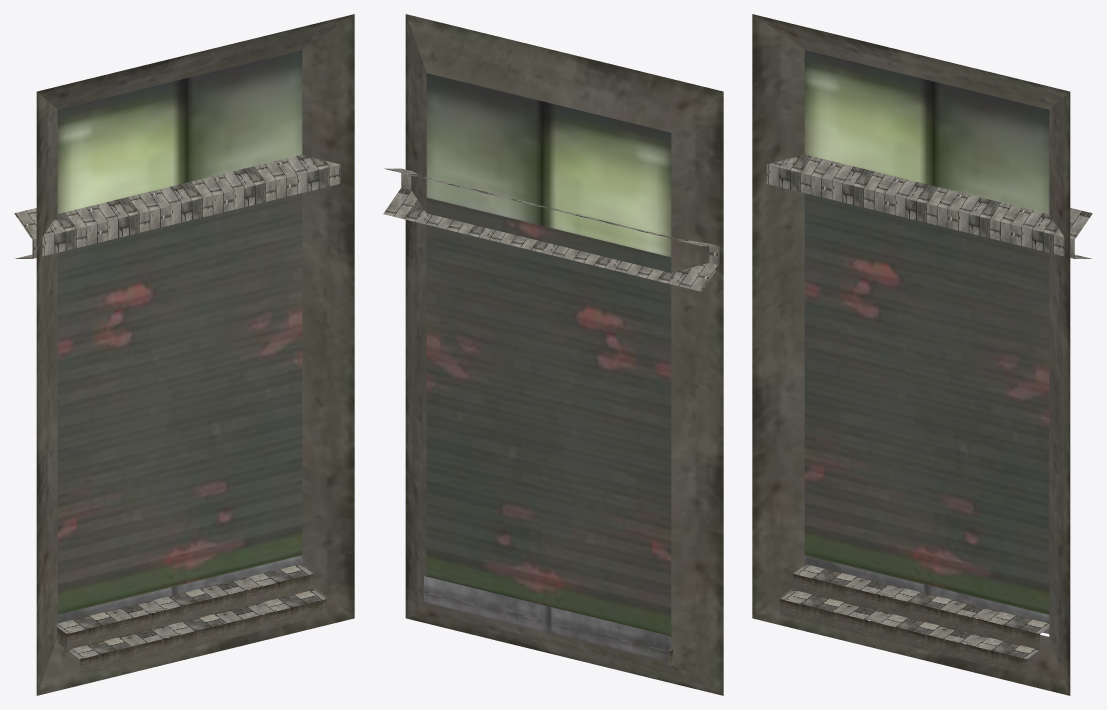
The model's file is wall-module-01.glb.
The picture shows the model from 3 angles, left to right: view 1: azimuth 30°, elevation 25°; view 2: azimuth 150°, elevation 25°; view 3: azimuth 330°, elevation 25°; orthographic projection.
Parts seen in each view (by area): view 1: Wall_Module_01; view 2: Wall_Module_01; view 3: Wall_Module_01.
Boxes of the visible parts, bbox=[...] form: Wall_Module_01: bbox=[14, 14, 354, 695]; Wall_Module_01: bbox=[383, 14, 723, 695]; Wall_Module_01: bbox=[752, 14, 1092, 695].
Size of the model in its own units: 2.27 by 4.13 by 0.3728.
Materials: 1 (1 with a texture image).
